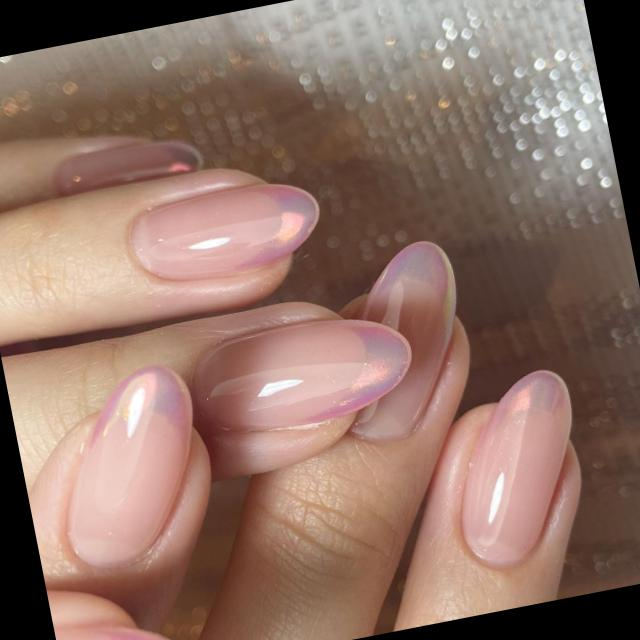Nail: (67, 365, 193, 567), (192, 318, 412, 430), (461, 369, 572, 567), (350, 240, 456, 441), (131, 185, 320, 282), (53, 140, 202, 196), (54, 624, 170, 640)
